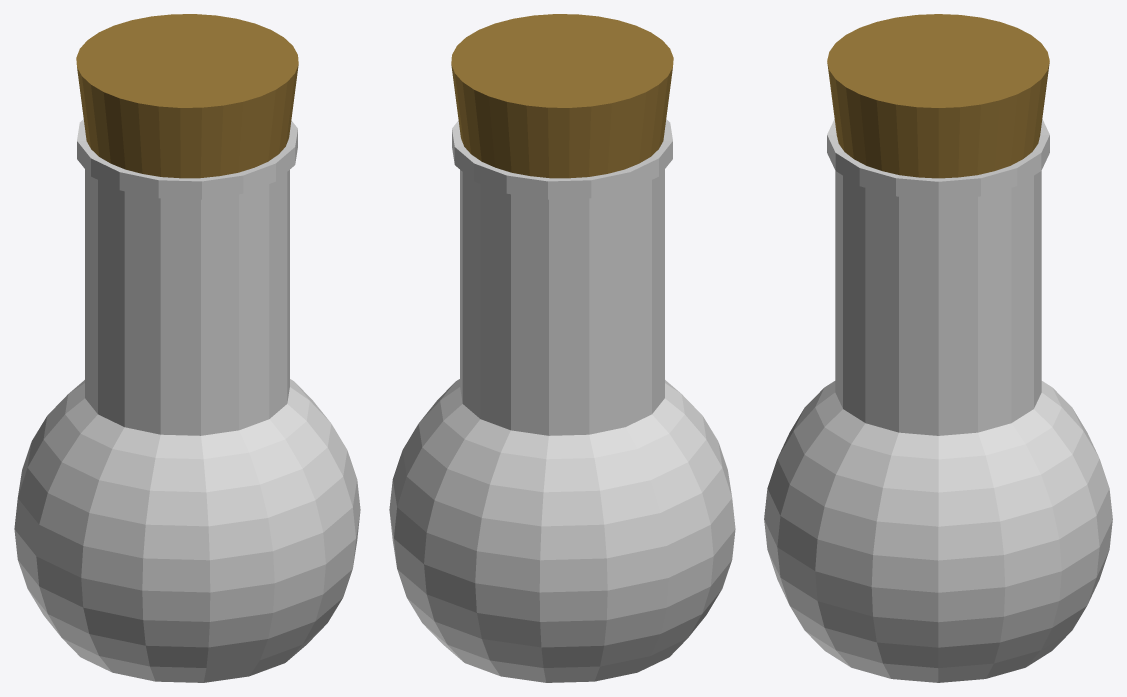
Rendered from HealthFlask.fbx.
The picture shows the model from 3 angles, left to right: view 1: azimuth 30°, elevation 25°; view 2: azimuth 150°, elevation 25°; view 3: azimuth 270°, elevation 25°; orthographic projection.
Visible parts, largest first — view 1: Sphere, Cylinder; view 2: Sphere, Cylinder; view 3: Sphere, Cylinder.
Boxes of the visible parts, x1=… form: Sphere: x1=14, y1=119, x2=360, y2=682; Cylinder: x1=76, y1=14, x2=298, y2=178; Sphere: x1=389, y1=119, x2=735, y2=682; Cylinder: x1=451, y1=14, x2=673, y2=178; Sphere: x1=764, y1=119, x2=1112, y2=682; Cylinder: x1=827, y1=14, x2=1049, y2=178.
Size of the model in its own units: 200 by 360 by 200.
